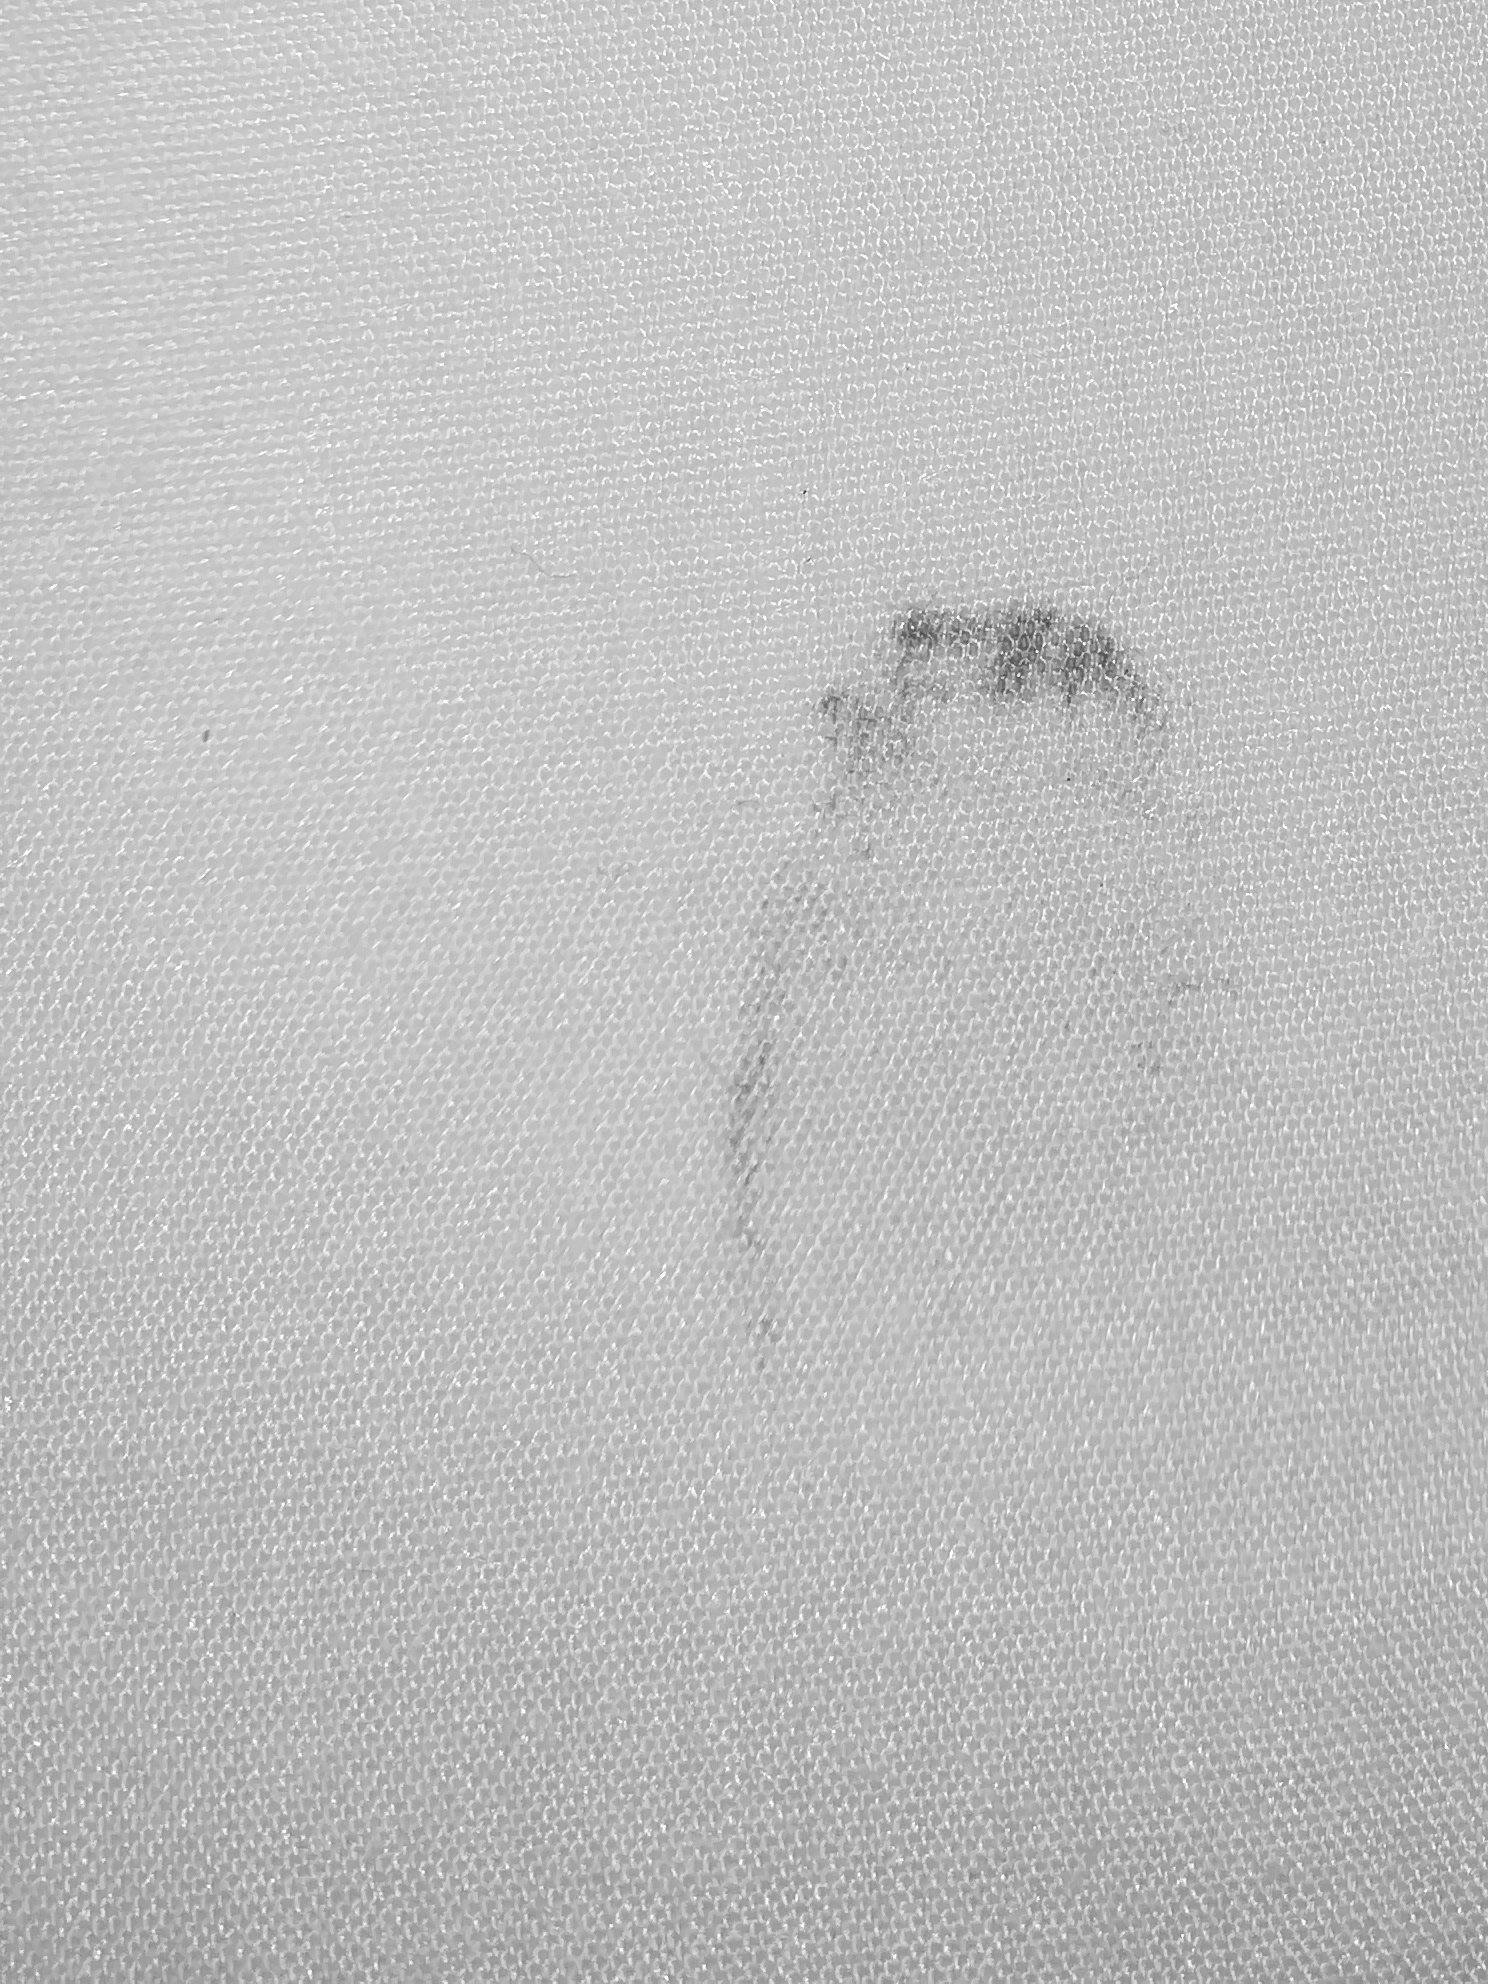Stain: (610, 483, 1350, 1261)
